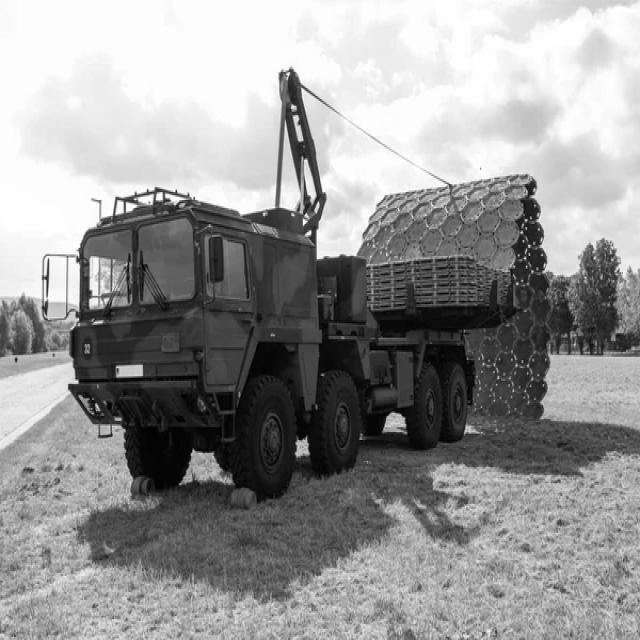Truck: (70, 69, 518, 498)
